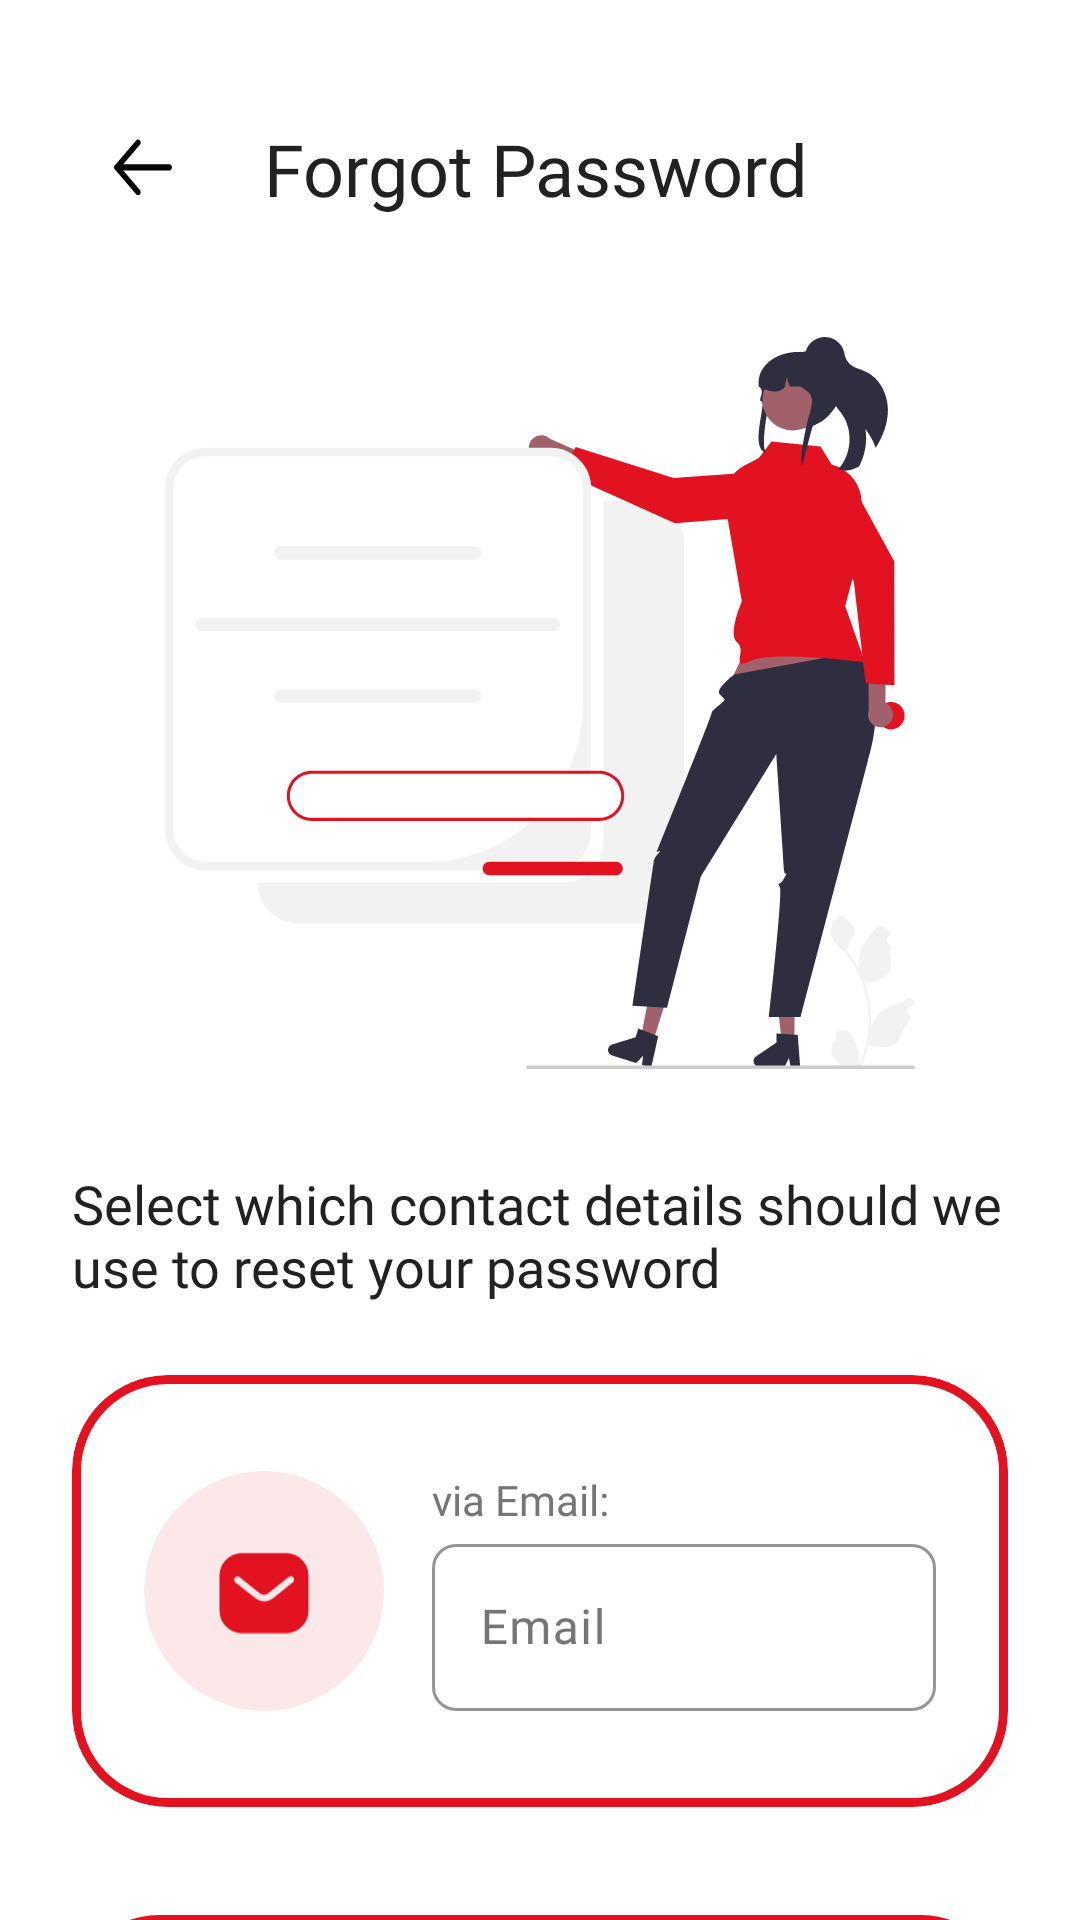

Screen size 1080 × 1920. Icon name, then its center in pixels as (x,y):
arrow left long: (143,167)
